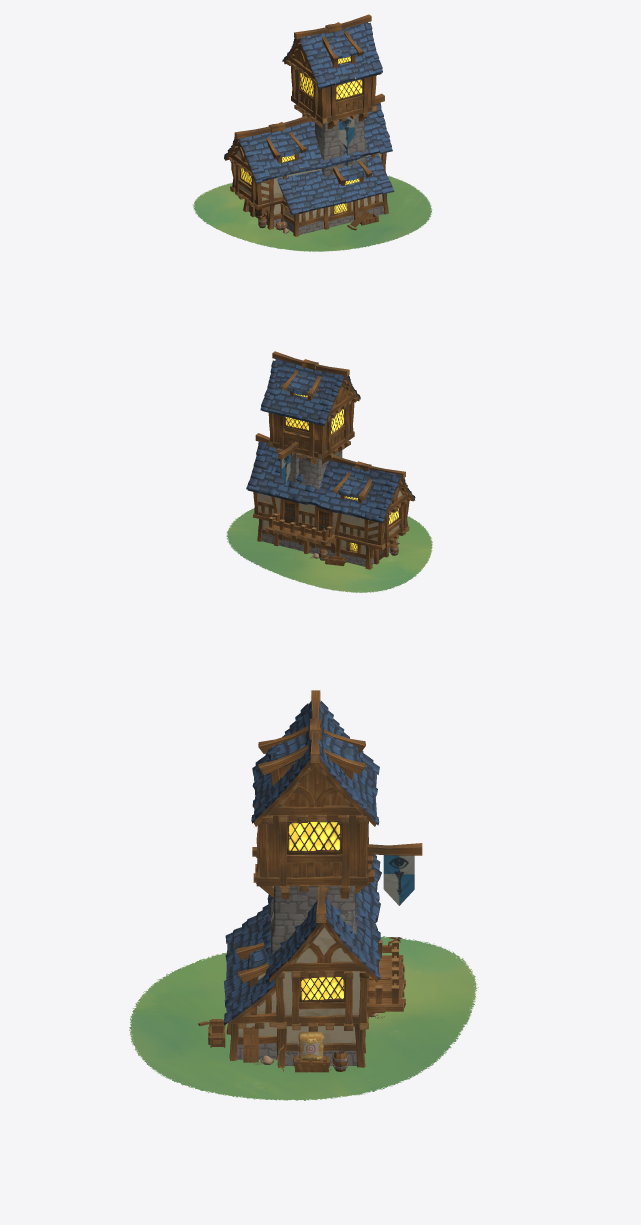
3 renders of one model, top to bottom at view 1: azimuth 30°, elevation 25°; view 2: azimuth 150°, elevation 25°; view 3: azimuth 270°, elevation 25°, orthographic. The views are drawn at different scales.
Visible parts, largest first — view 1: Ground Plane002; view 2: Ground Plane002; view 3: Ground Plane002.
Boxes of the visible parts, bbox=[...] form: Ground Plane002: bbox=[193, 14, 432, 251]; Ground Plane002: bbox=[226, 351, 432, 592]; Ground Plane002: bbox=[129, 690, 478, 1100].
Size of the model in its own units: 4290 by 1752 by 2989.
Materials: 6 (6 with a texture image).
